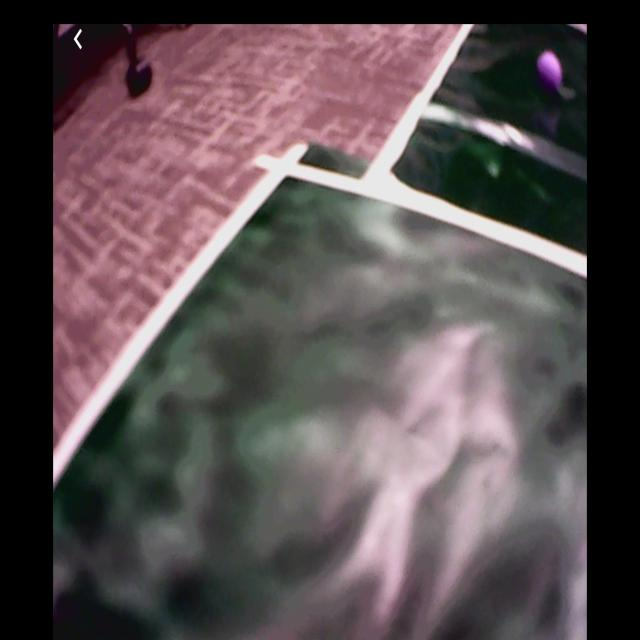ball: (538, 52, 562, 85)
